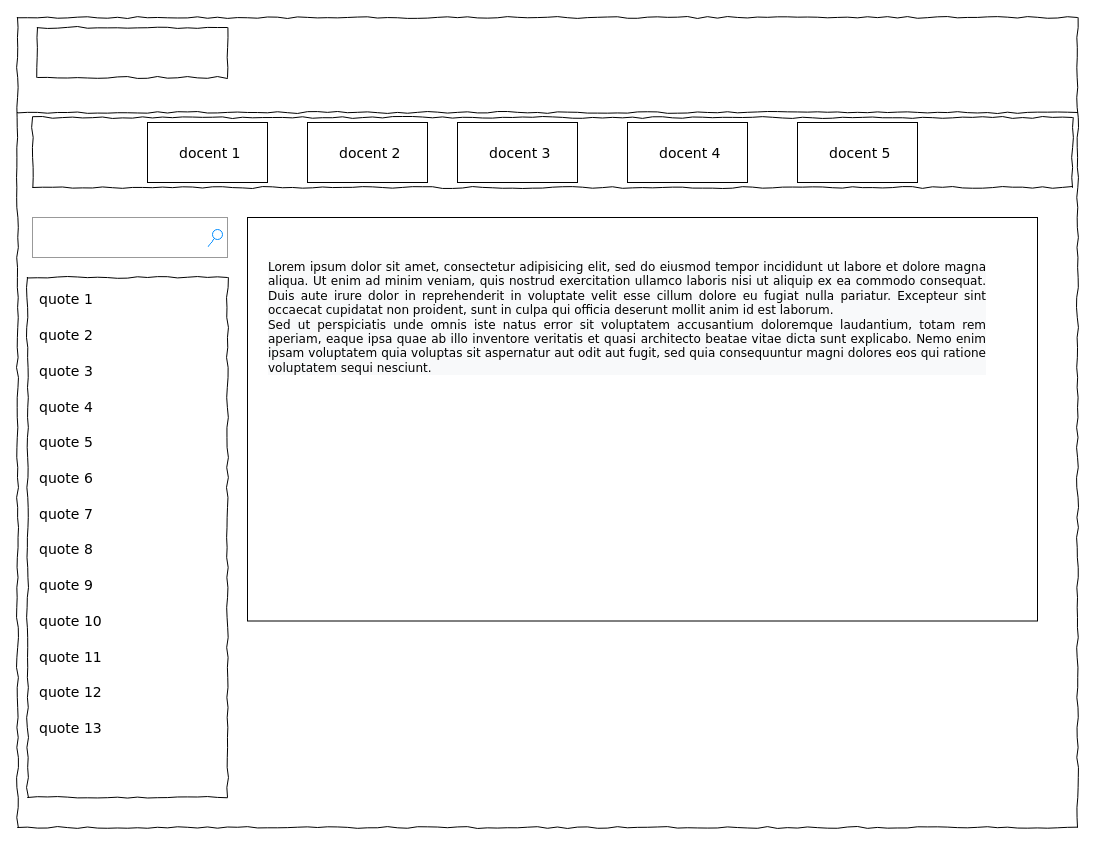
Image size: 1095x845. Some labels were removed from this diagram. Here are the shapes that lost their labels. From the top down, the centre of each, then its label:
pixel 132 52: LOGO
pixel 130 237: Search
